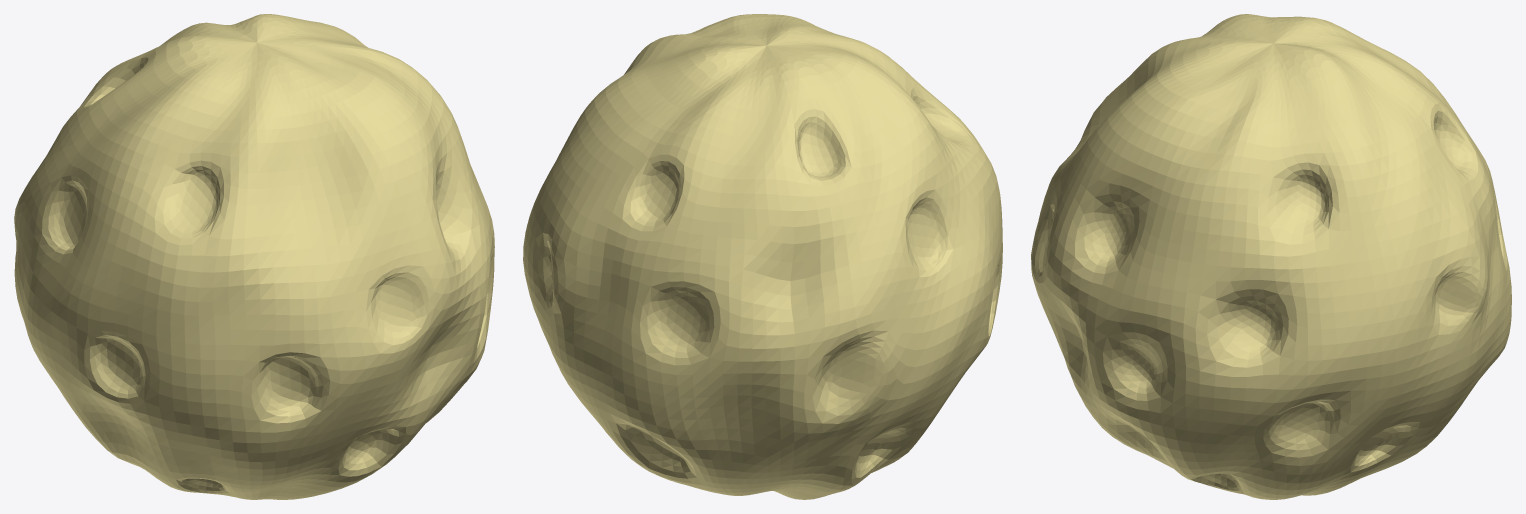
The model's file is Moon.fbx.
3 renders of one model, left to right at view 1: azimuth 30°, elevation 25°; view 2: azimuth 150°, elevation 25°; view 3: azimuth 270°, elevation 25°, orthographic.
Visible parts, largest first — view 1: Subdivision_Surface_1; view 2: Subdivision_Surface_1; view 3: Subdivision_Surface_1.
Boxes of the visible parts, x1=… form: Subdivision_Surface_1: x1=14, y1=14, x2=494, y2=499; Subdivision_Surface_1: x1=523, y1=14, x2=1002, y2=499; Subdivision_Surface_1: x1=1031, y1=14, x2=1511, y2=499.
Bounding box in the file's own units: 191 × 195 × 194.
